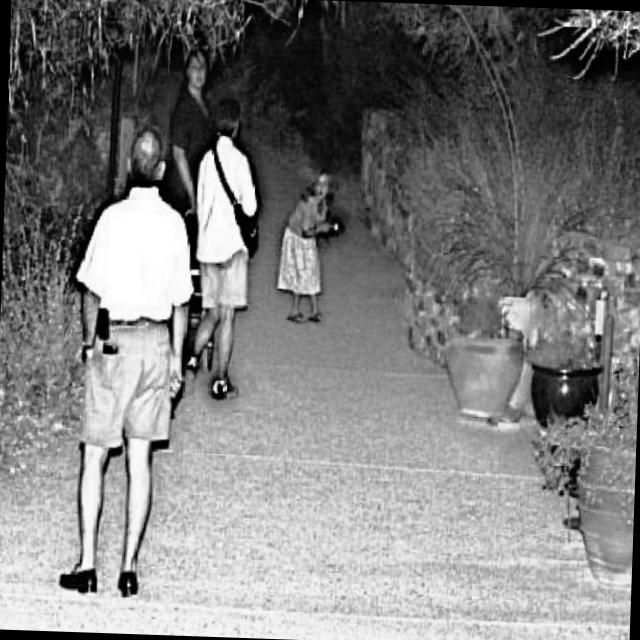Person: (53, 124, 201, 602), (183, 104, 264, 404), (162, 36, 224, 212), (275, 166, 341, 328)
